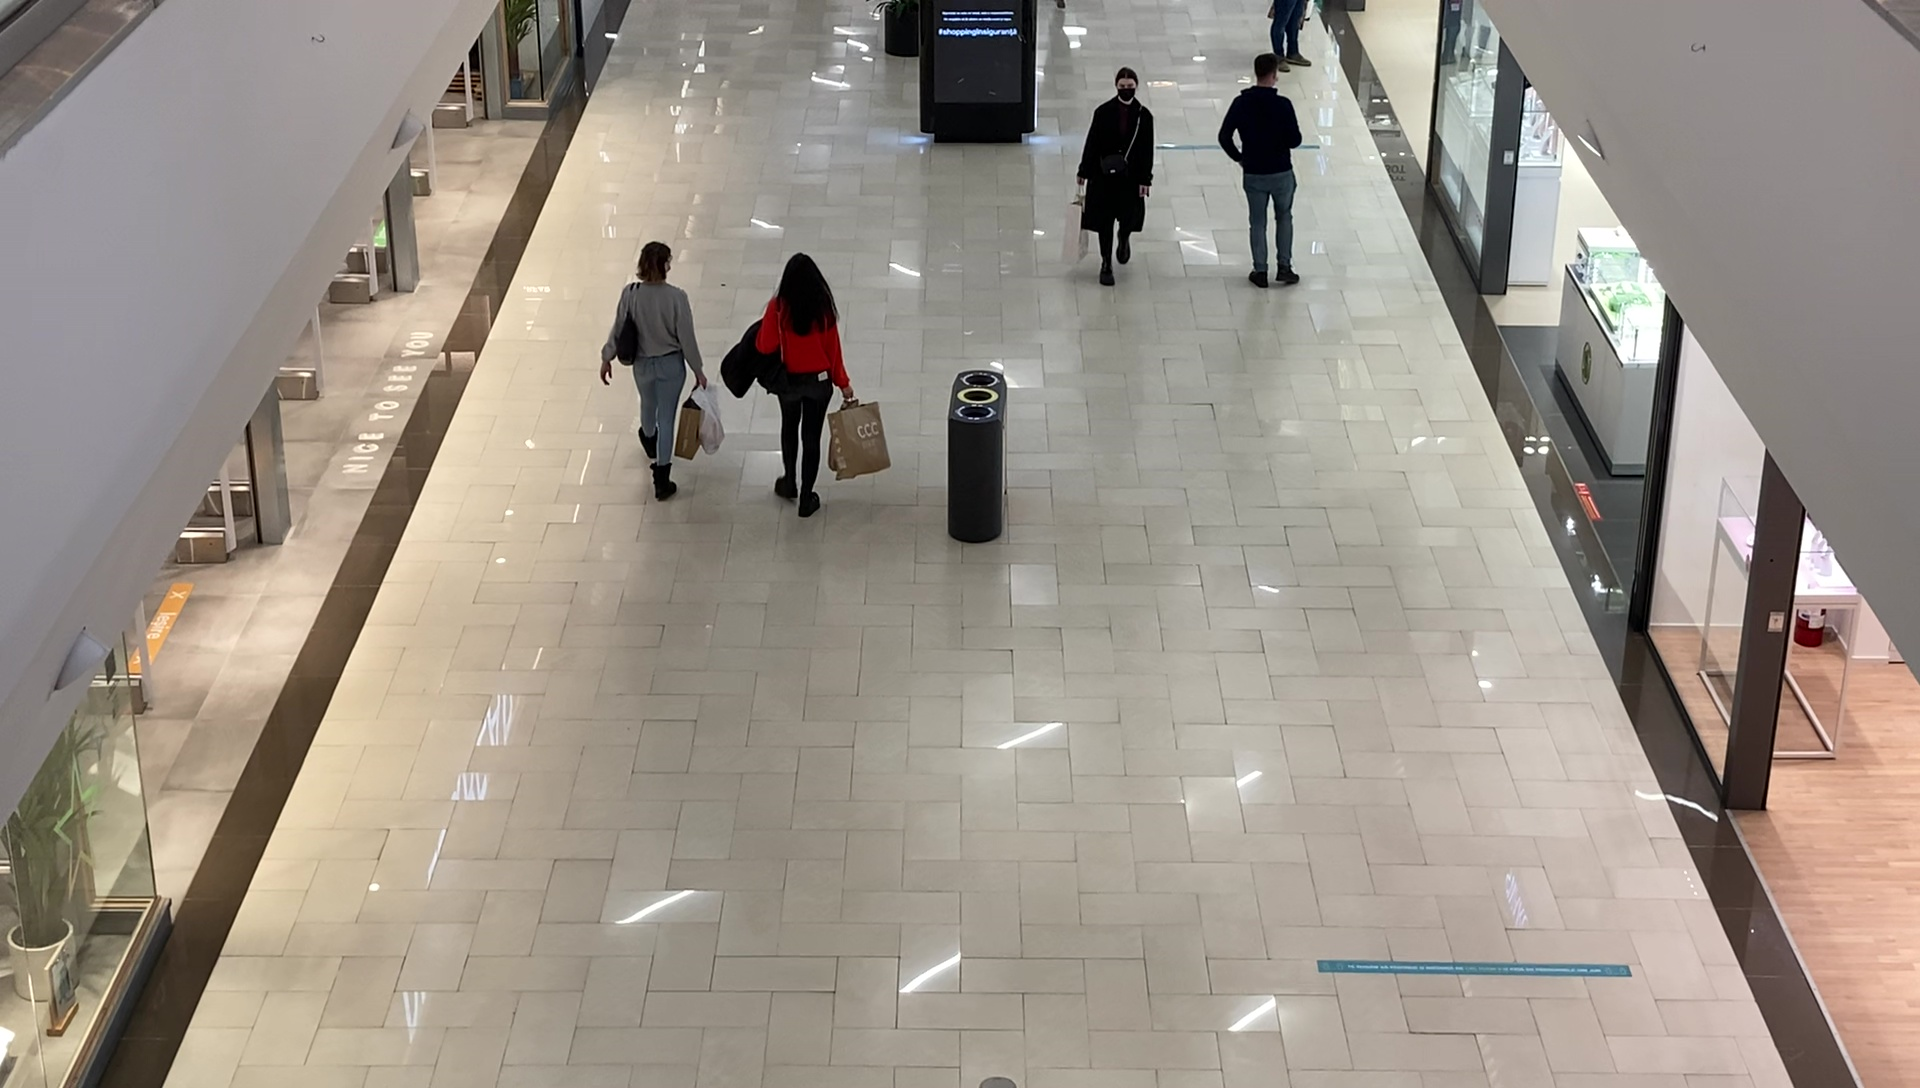person: (600, 241, 710, 500), (756, 253, 856, 516), (1216, 56, 1303, 287), (1076, 66, 1156, 287)
